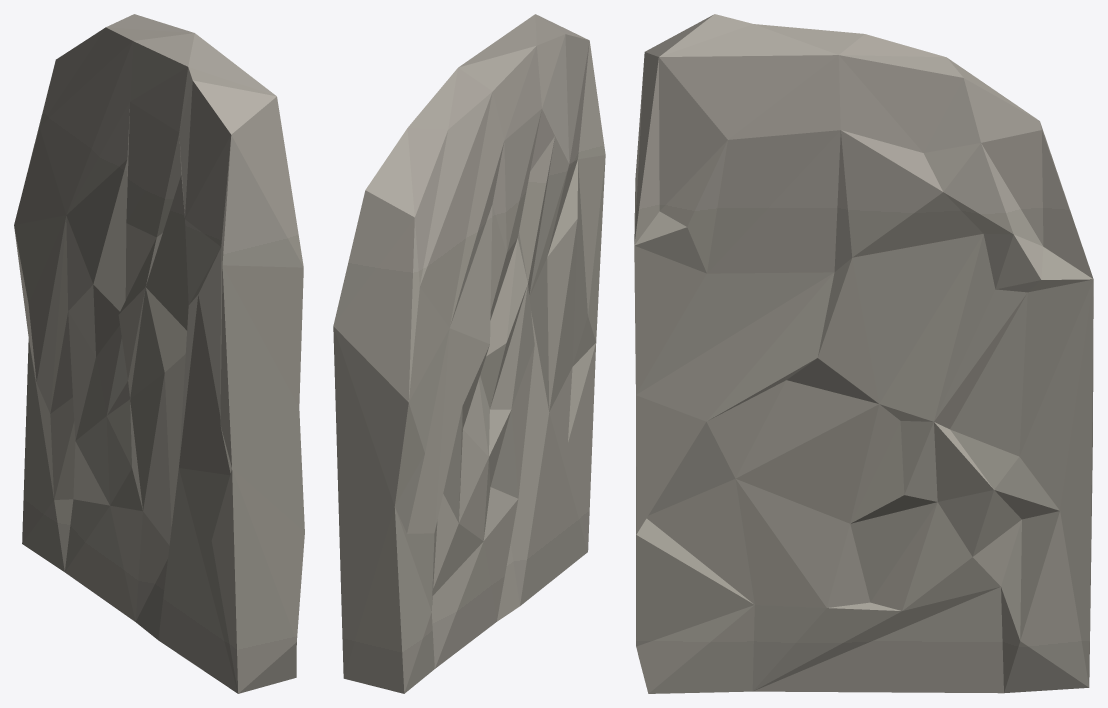
Rendered from YN_RockPlate17.fbx.
3 renders of one model, left to right at view 1: azimuth 30°, elevation 25°; view 2: azimuth 150°, elevation 25°; view 3: azimuth 270°, elevation 25°, orthographic. The views are drawn at different scales.
Visible parts, largest first — view 1: RockPlate17; view 2: RockPlate17; view 3: RockPlate17.
Part boxes in pixels (x1,y1,x2,y2): RockPlate17: (14, 14, 304, 693); RockPlate17: (333, 14, 605, 693); RockPlate17: (634, 14, 1093, 693).
Size of the model in its own units: 0.803 by 4.84 by 3.14.
